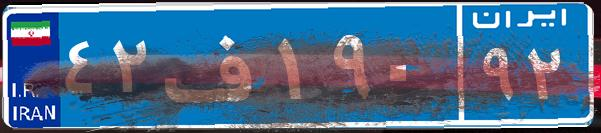0: (385, 28, 445, 110)
1: (273, 28, 330, 110)
2: (110, 28, 158, 105), (525, 38, 570, 115)
4: (57, 26, 110, 107)
9: (330, 28, 385, 110), (475, 38, 525, 113)
ف: (158, 15, 273, 115)
